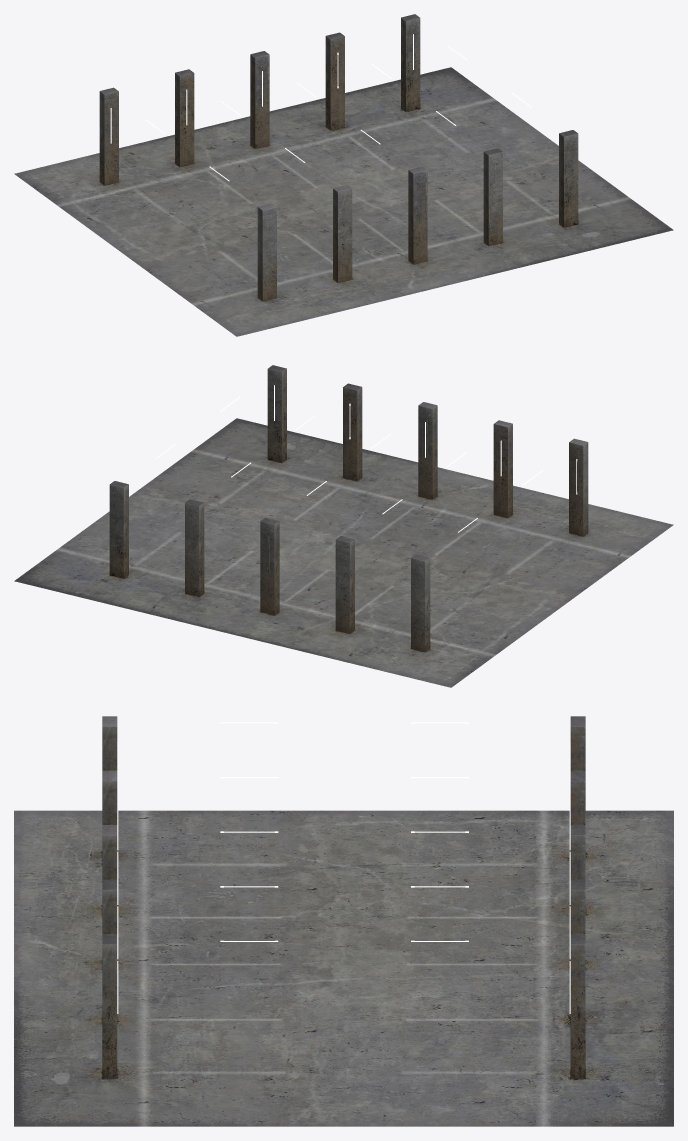
File: parking-garage.glb
3 renders of one model, top to bottom at view 1: azimuth 30°, elevation 25°; view 2: azimuth 150°, elevation 25°; view 3: azimuth 270°, elevation 25°, orthographic. The views are drawn at different scales.
Parts seen in each view (by area): view 1: floor -3 -1, floor -3 0, floor 1 -1, floor -2 2, floor 2 2, floor -3 2, floor 1 2, floor 2 -1, floor -2 -1, floor -3 -3, floor 2 -3, floor 1 -3 (+35 smaller); view 2: floor -3 0, floor -3 -1, floor -2 0, floor -2 -3, floor 2 -3, floor -3 -3, floor 1 -3, floor -3 2, floor 1 -1, floor 1 0, floor 2 0, floor 2 2 (+35 smaller); view 3: floor 2 0, floor 2 -1, floor 1 0, floor 1 -1, floor -3 0, floor -3 -1, floor -2 0, floor -2 -1, floor 2 -3, floor 2 2, floor 1 -3, floor 1 2 (+32 smaller).
Boxes of the visible parts, left/top/right/bottom form: floor -3 -1: left=59, top=206, right=234, bottom=250; floor -3 0: left=103, top=239, right=278, bottom=282; floor 1 -1: left=321, top=142, right=483, bottom=184; floor -2 2: left=280, top=261, right=411, bottom=315; floor 2 2: left=542, top=197, right=673, bottom=251; floor -3 2: left=192, top=283, right=323, bottom=336; floor 1 2: left=455, top=219, right=585, bottom=272; floor 2 -1: left=408, top=121, right=584, bottom=164; floor -2 -1: left=146, top=185, right=321, bottom=228; floor -3 -3: left=14, top=153, right=145, bottom=206; floor 2 -3: left=364, top=67, right=495, bottom=120; floor 1 -3: left=276, top=88, right=407, bottom=142; floor -3 0: left=497, top=536, right=584, bottom=622; floor -3 -1: left=453, top=569, right=539, bottom=654; floor -2 0: left=410, top=515, right=497, bottom=600; floor -2 -3: left=276, top=612, right=407, bottom=666; floor 2 -3: left=14, top=548, right=145, bottom=602; floor -3 -3: left=364, top=634, right=495, bottom=687; floor 1 -3: left=102, top=570, right=232, bottom=623; floor -3 2: left=542, top=504, right=673, bottom=557; floor 1 -1: left=204, top=505, right=260, bottom=590; floor 1 0: left=235, top=472, right=321, bottom=556; floor 2 0: left=148, top=451, right=234, bottom=529; floor 2 2: left=192, top=418, right=323, bottom=471; floor 2 0: left=147, top=1063, right=408, bottom=1126; floor 2 -1: left=279, top=1063, right=540, bottom=1126; floor 1 0: left=146, top=1000, right=409, bottom=1063; floor 1 -1: left=278, top=1000, right=541, bottom=1063; floor -3 0: left=146, top=810, right=409, bottom=873; floor -3 -1: left=278, top=810, right=541, bottom=873; floor -2 0: left=147, top=874, right=408, bottom=936; floor -2 -1: left=279, top=874, right=540, bottom=936; floor 2 -3: left=542, top=1063, right=673, bottom=1126; floor 2 2: left=14, top=1063, right=145, bottom=1126; floor 1 -3: left=542, top=1000, right=673, bottom=1063; floor 1 2: left=14, top=1000, right=145, bottom=1063.
Bounding box in the file's own units: 19.52 × 3.88 × 17.22.
Materials: 2 (1 with a texture image).
